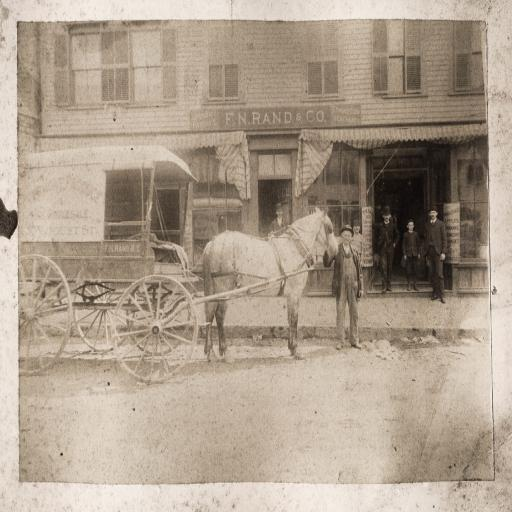horse: (202, 203, 340, 364)
